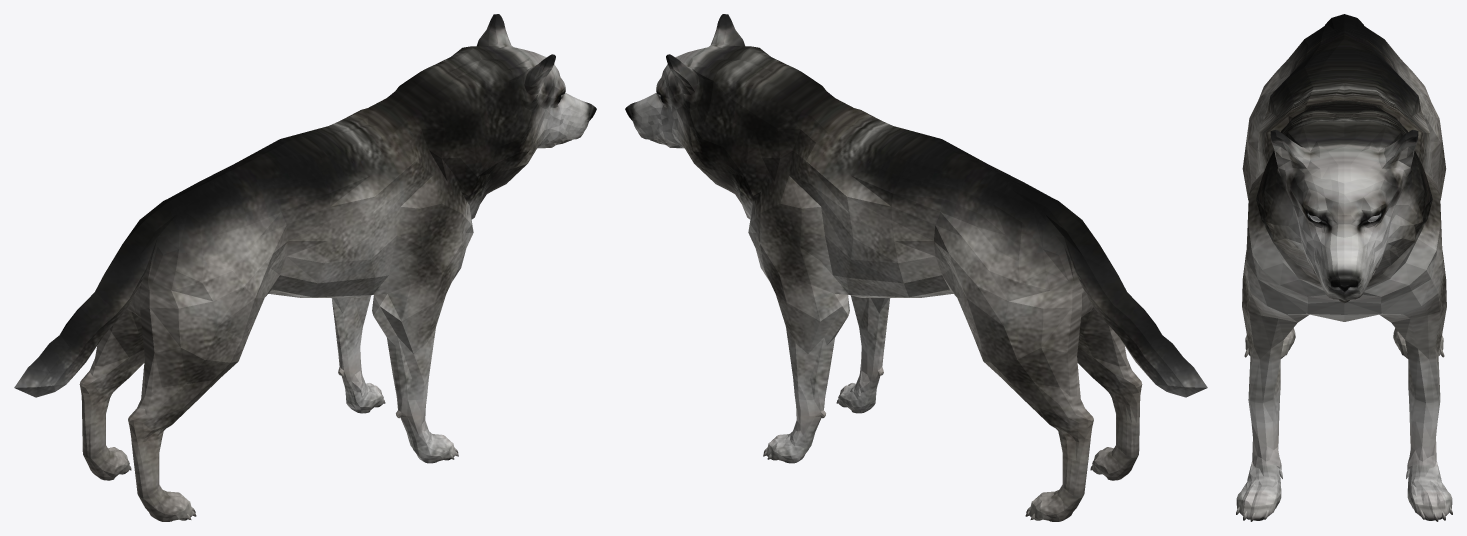
The model's file is wolf.glb.
The picture shows the model from 3 angles, left to right: view 1: azimuth 30°, elevation 25°; view 2: azimuth 150°, elevation 25°; view 3: azimuth 270°, elevation 25°; orthographic projection. The views are drawn at different scales.
Size of the model in its own units: 2.5 by 1.52 by 0.6506.
4 materials, 4 textured.
